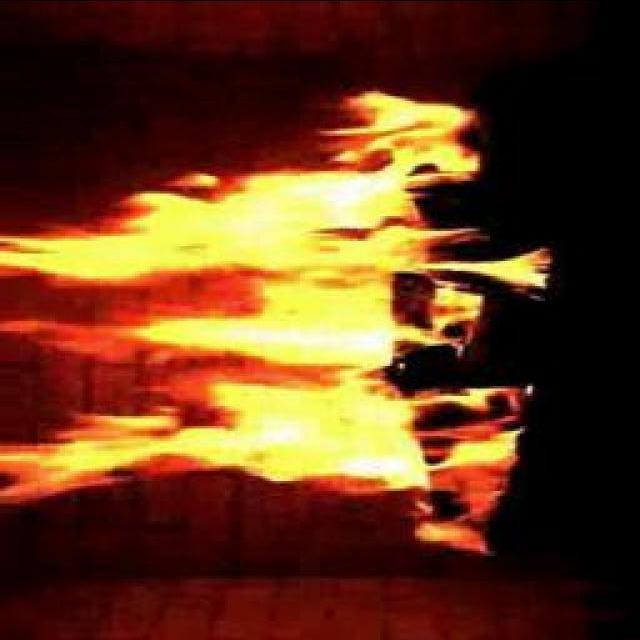Fire: (41, 143, 489, 486)
